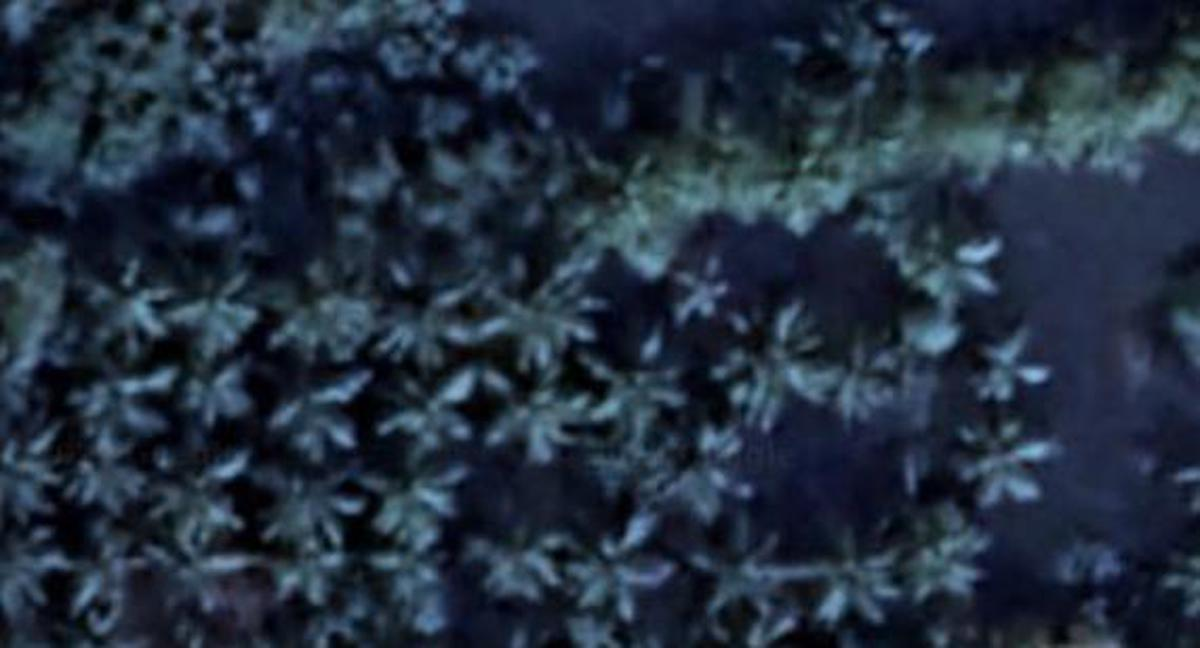coconut: (477, 349, 602, 462), (713, 302, 823, 424), (903, 193, 1006, 311), (75, 256, 183, 359), (477, 269, 595, 363), (368, 271, 480, 370), (690, 517, 791, 626), (265, 355, 374, 456), (258, 262, 374, 355), (149, 429, 248, 536), (570, 513, 673, 614), (589, 338, 698, 433), (65, 363, 183, 450), (58, 519, 155, 622), (471, 511, 566, 616), (254, 460, 360, 553), (795, 538, 892, 635), (151, 515, 244, 616), (258, 525, 357, 618), (955, 418, 1052, 509), (364, 519, 461, 610), (387, 366, 484, 456), (810, 338, 901, 433), (172, 258, 263, 351), (366, 452, 450, 551), (658, 414, 749, 504), (896, 509, 983, 597), (65, 427, 143, 519), (675, 244, 747, 330), (178, 340, 252, 416), (972, 330, 1044, 406), (0, 519, 58, 610), (0, 441, 56, 517)
